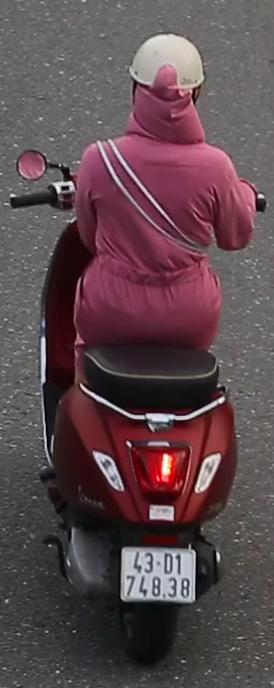LP: (113, 539, 197, 607)
helmet: (123, 29, 212, 146)
